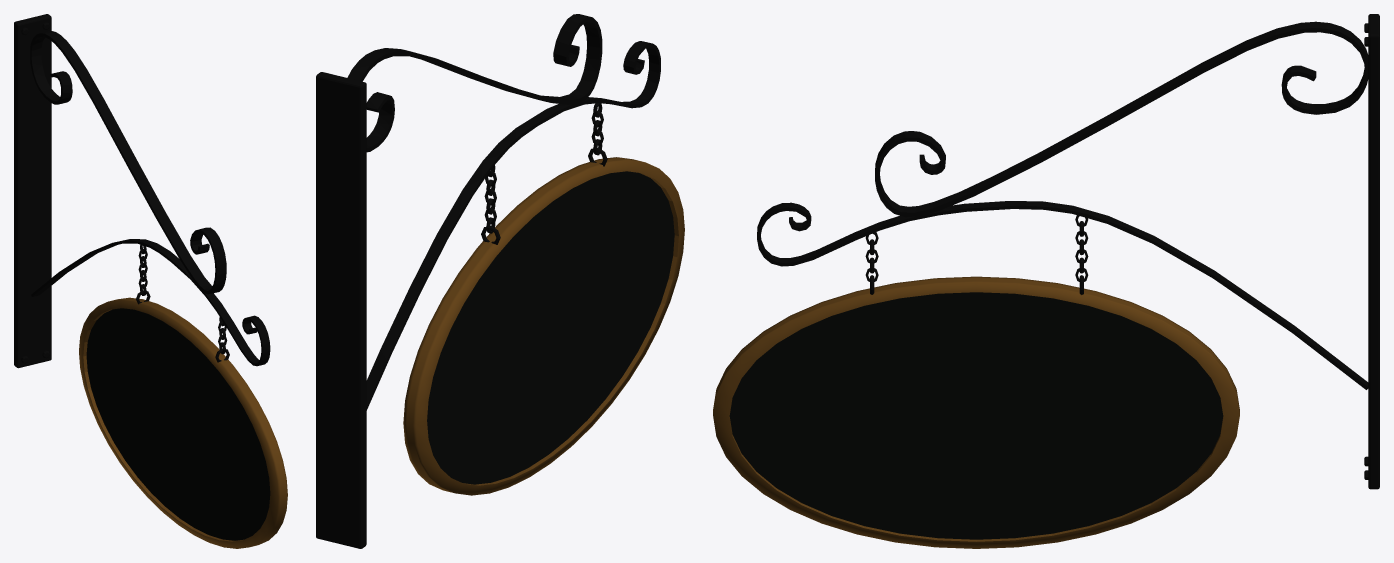
Rendered from receptionSignMat.fbx.
3 views of the same model, side by side, from view 1: azimuth 30°, elevation 25°; view 2: azimuth 150°, elevation 25°; view 3: azimuth 270°, elevation 25° (orthographic). The views are drawn at different scales.
Visible parts, largest first — view 1: Cylinder001; view 2: Cylinder001; view 3: Cylinder001.
Part boxes in pixels (box(x1,y1,x2,y2)): Cylinder001: box(14, 14, 287, 548); Cylinder001: box(316, 14, 684, 548); Cylinder001: box(713, 14, 1379, 548).
Size of the model in its own units: 5.41 by 59.05 by 68.42.
